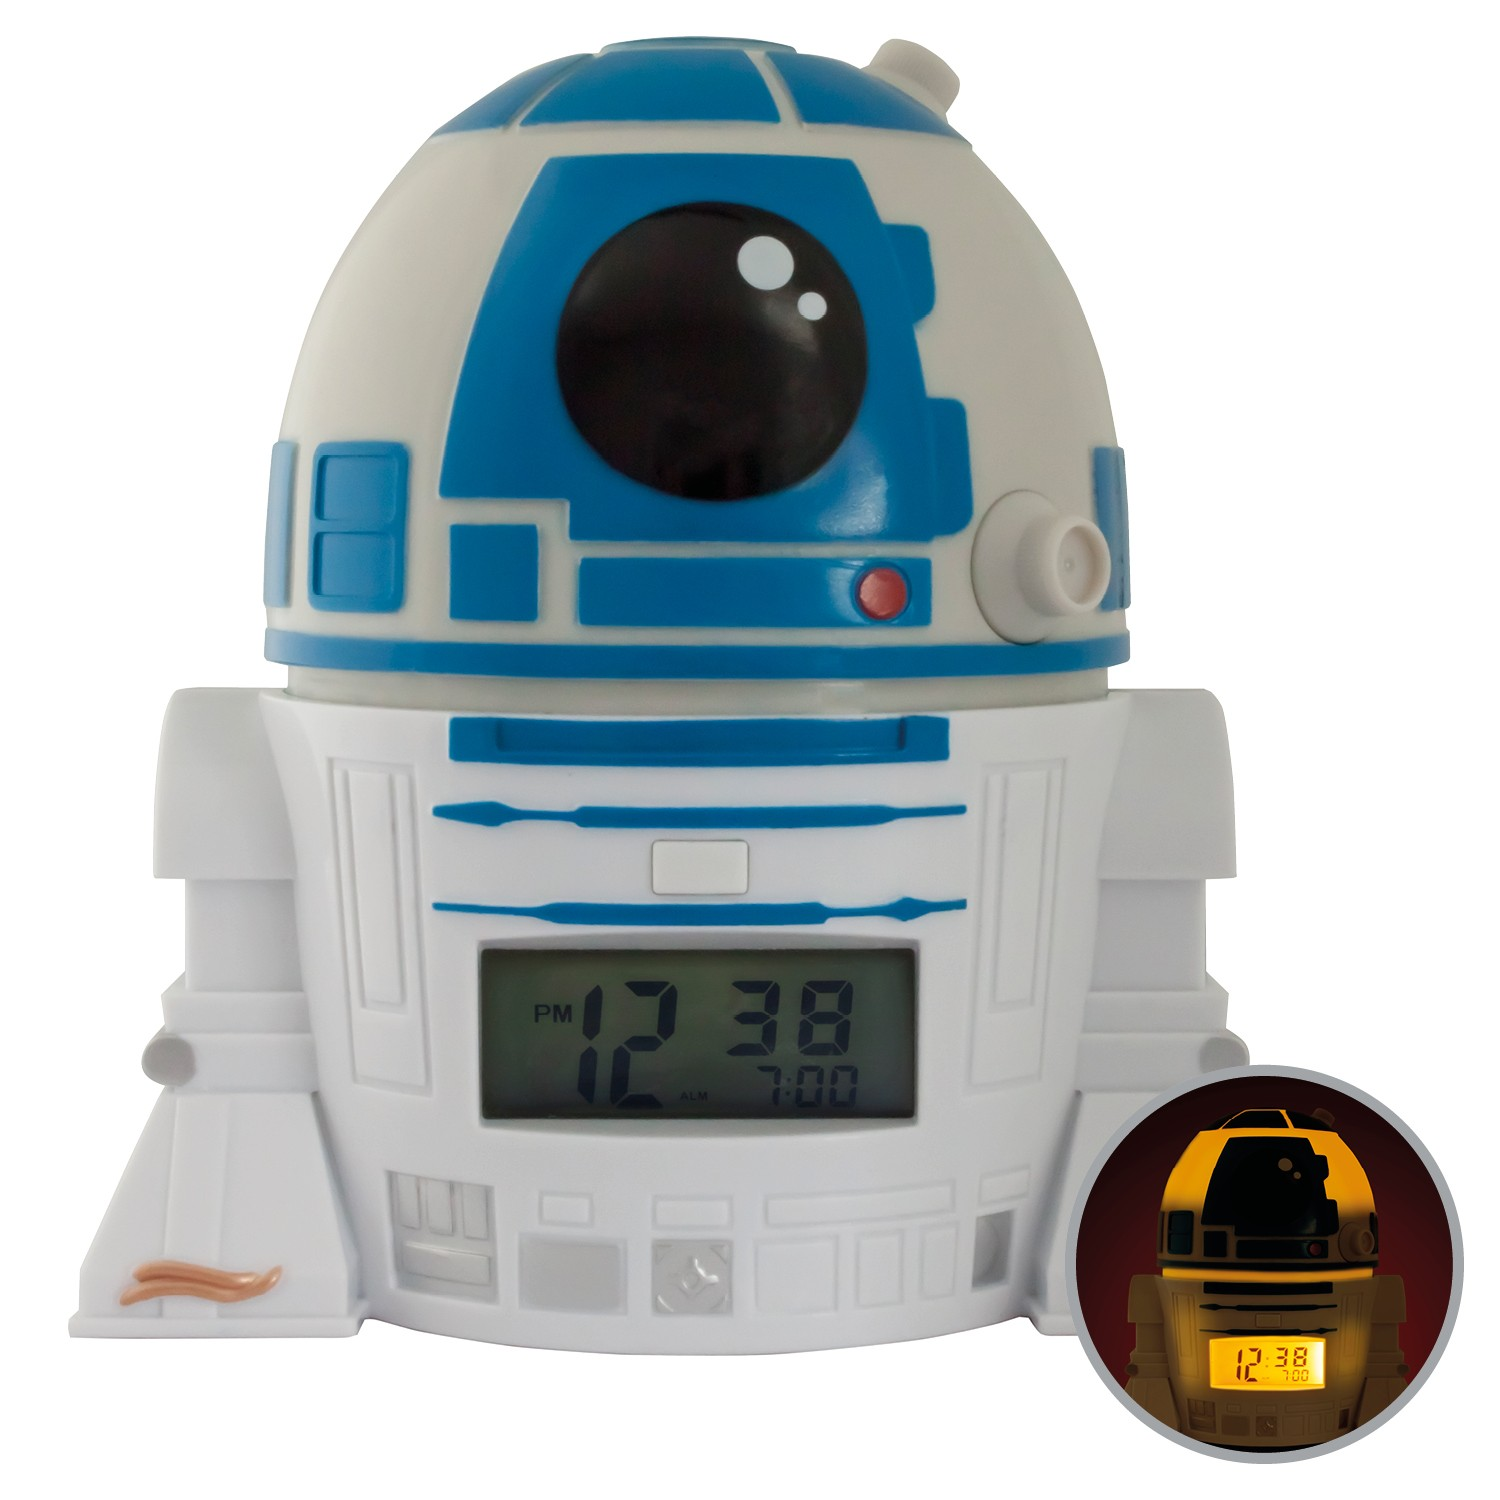r2d2: (157, 41, 1227, 931)
